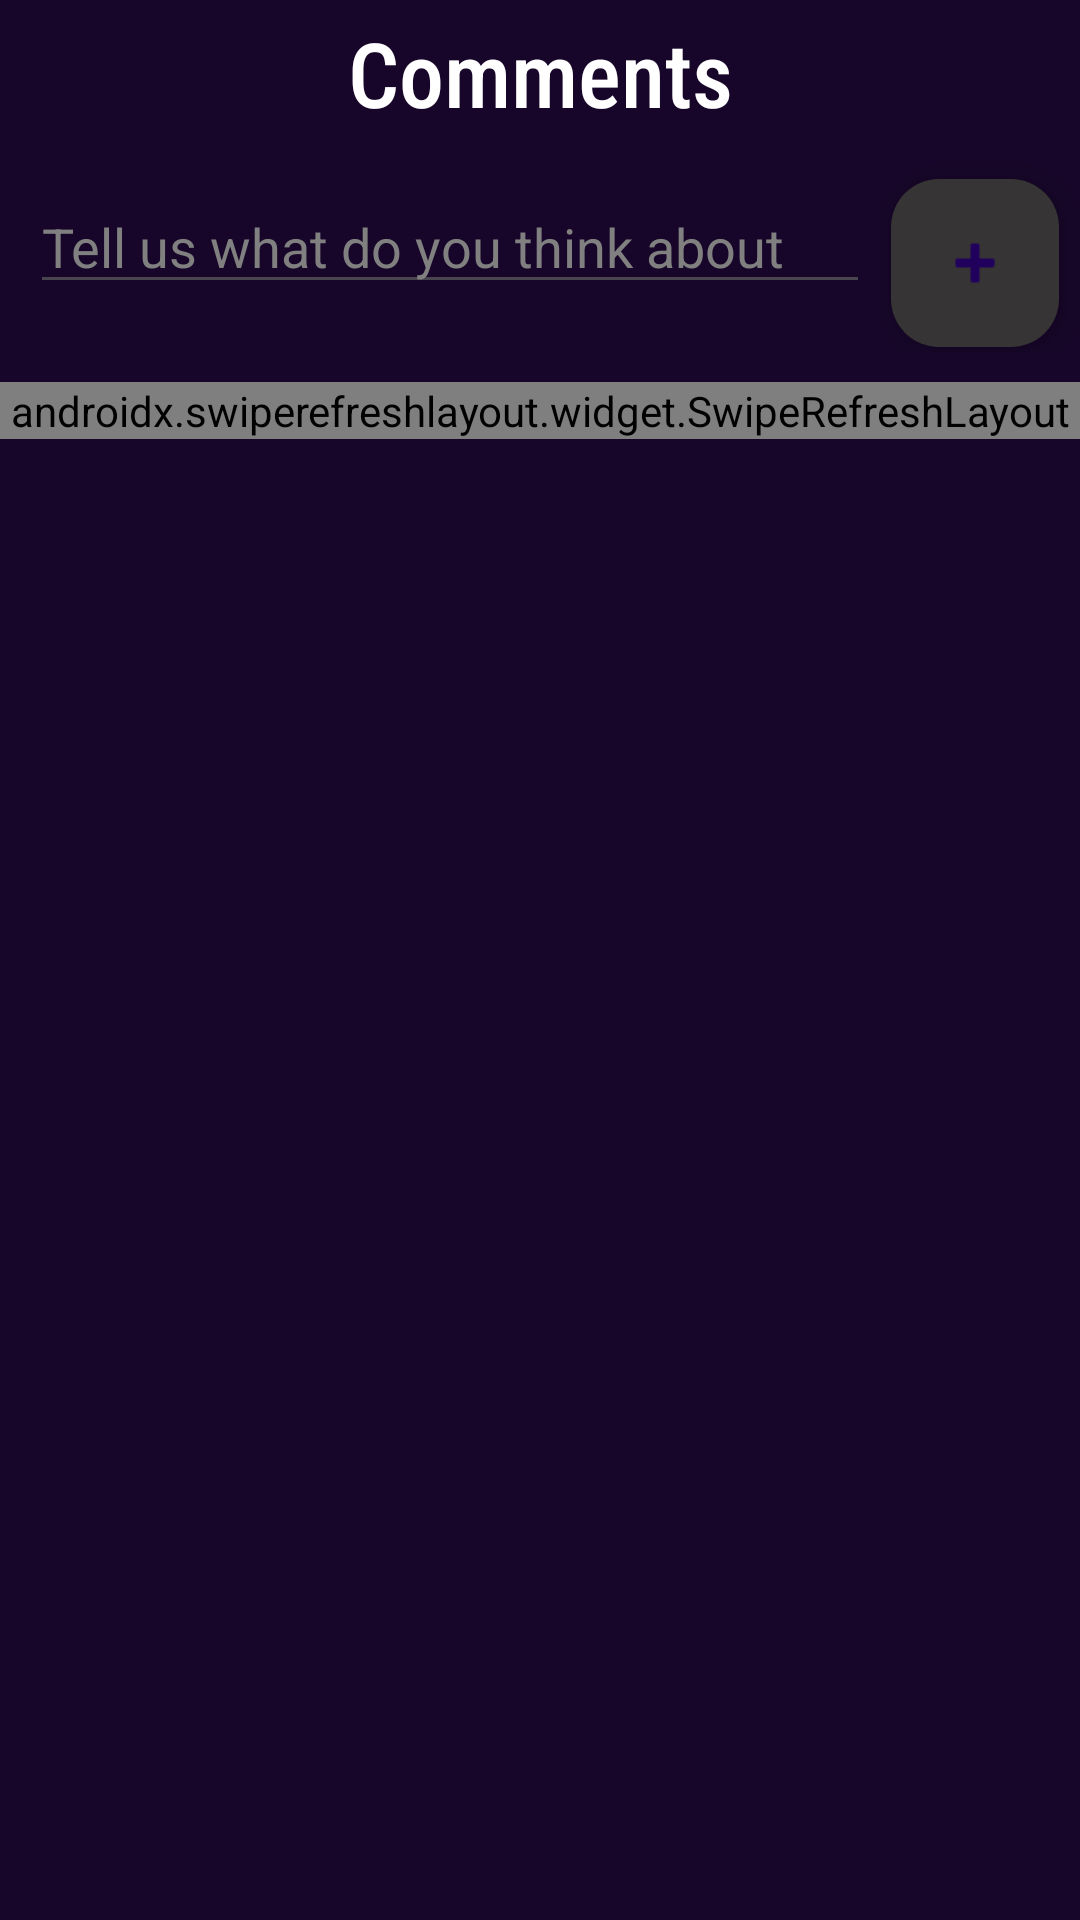

Named icons in this screenshot (1080×1920) and their centers, point (x, y):
add: point (975, 263)
